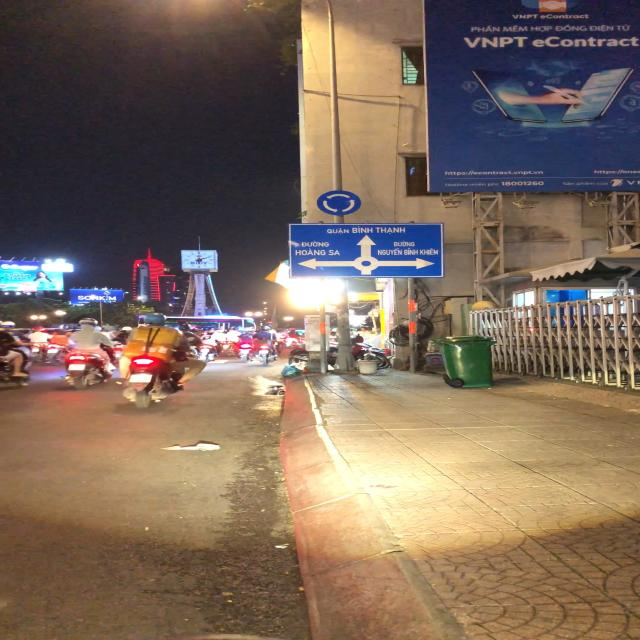Bien bao noi giao nhau chay theo vong xuyen: (314, 189, 363, 216)
